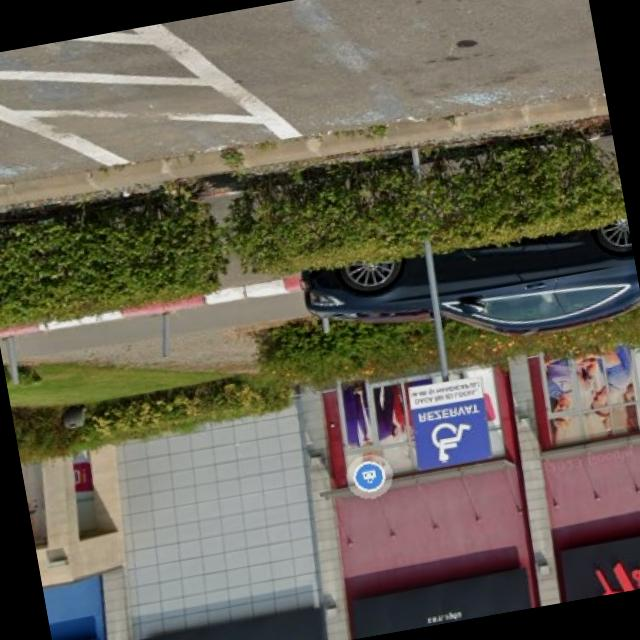symbol_of_access: (421, 414, 486, 468)
